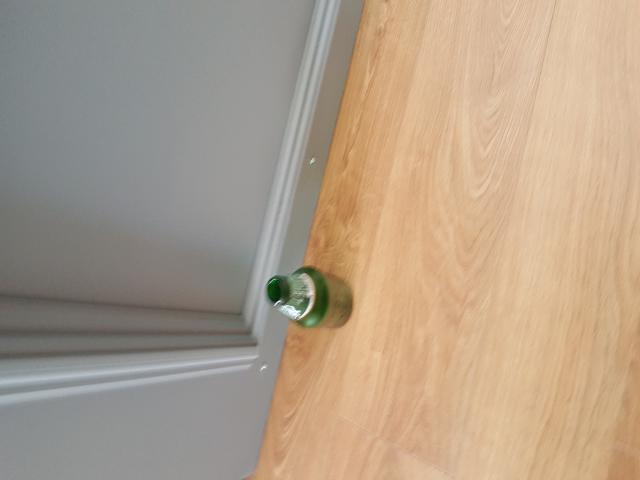beer: (266, 267, 352, 327)
